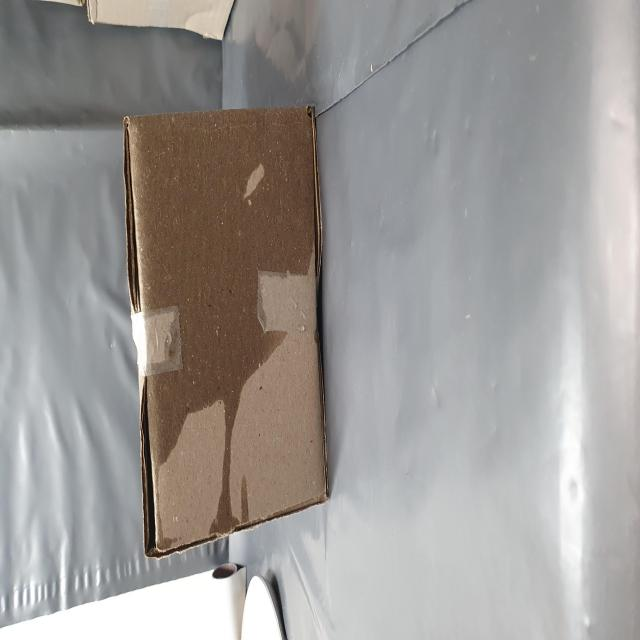wet: (78, 238, 296, 588)
